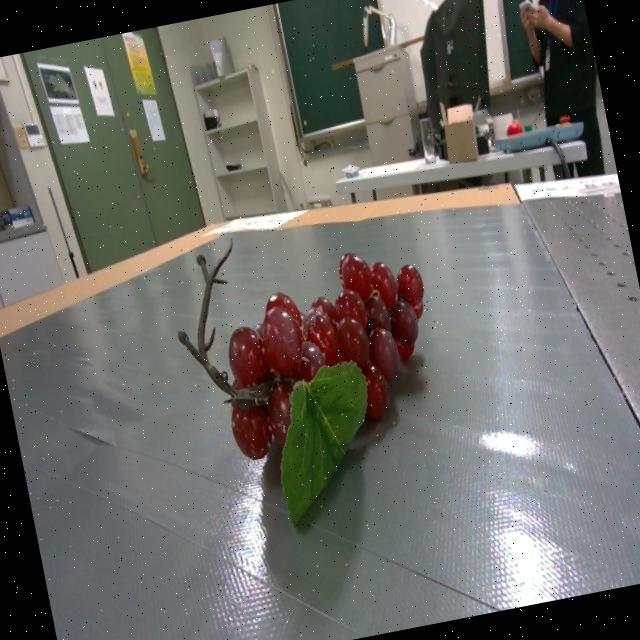grape: (178, 246, 423, 523)
